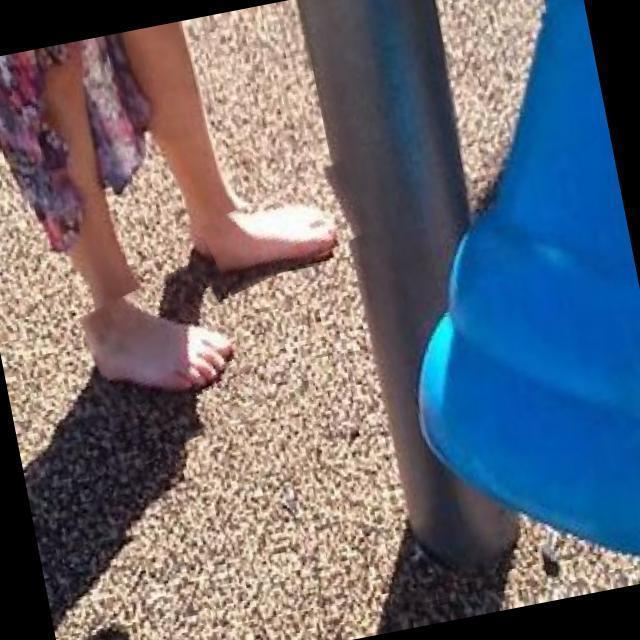No_Shoes: (53, 280, 257, 406), (166, 192, 368, 270)
